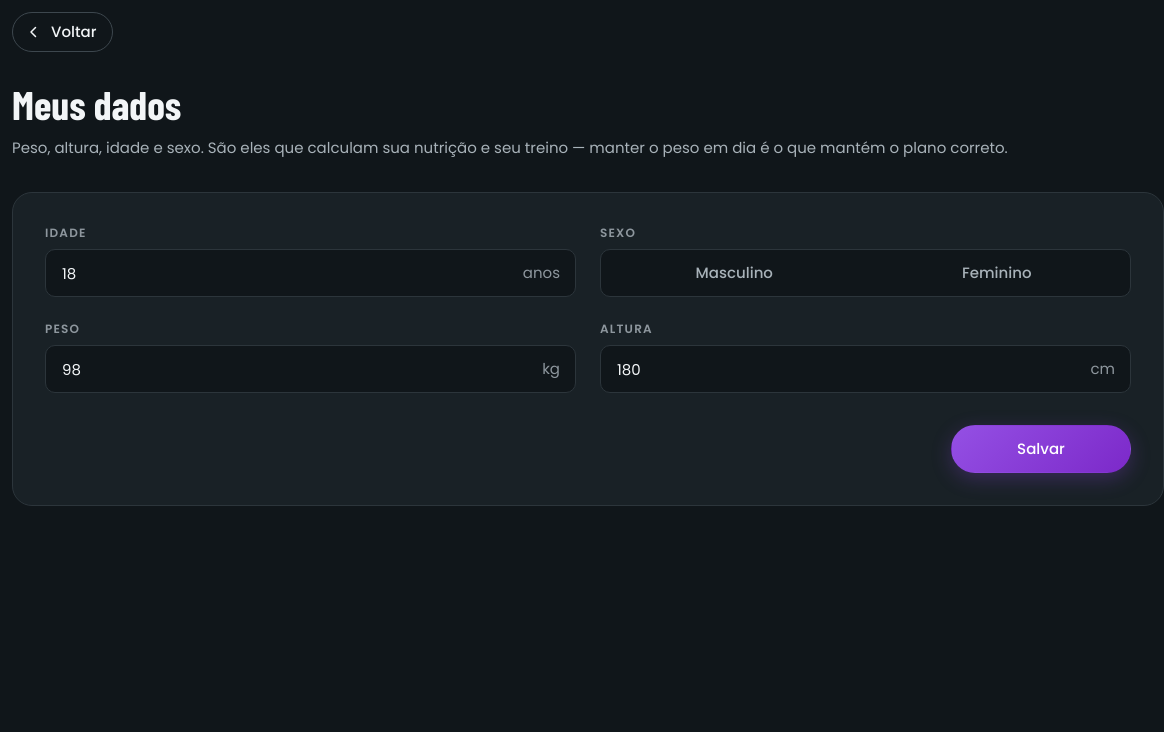
Test: Meus dados — sexo é obrigatório › salvar sem sexo é barrado, e a fórmula feminina não entra em silêncio
Expected: the number field labelled "Peso" is shown, [45,345,576,393]
Click the button "Salvar" at {"x": 1041, "y": 449}, box [951,425,1131,473]
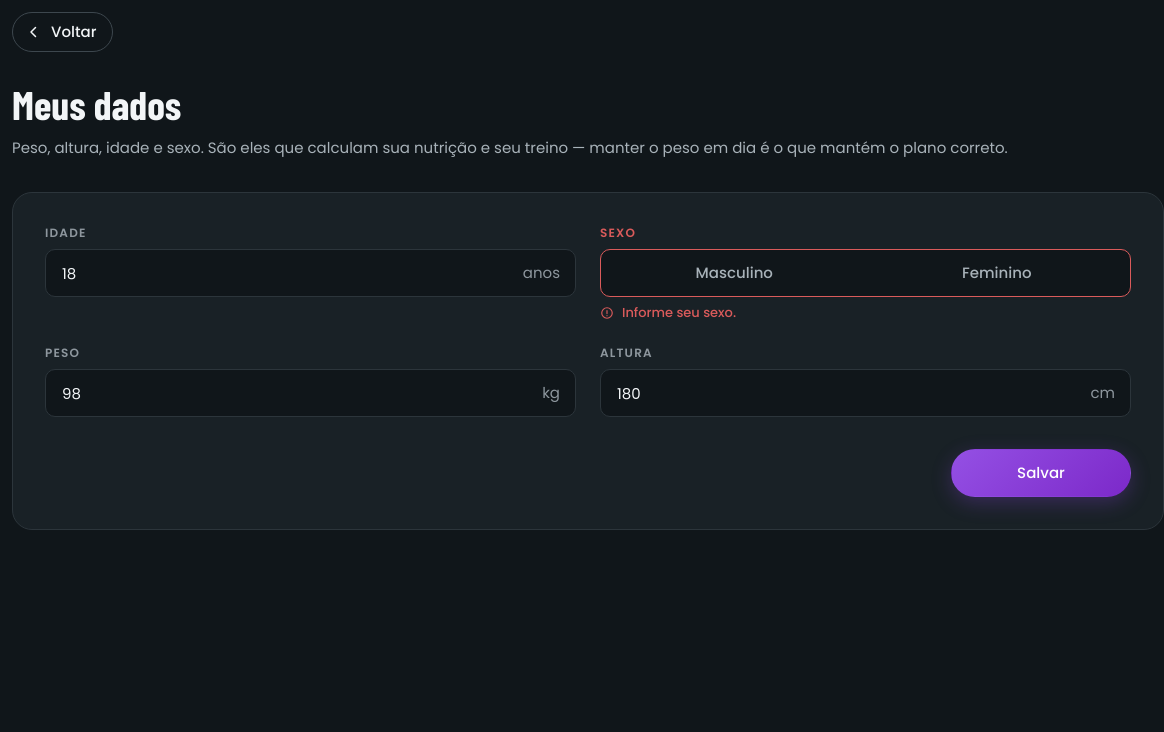
Result: the text "Informe seu sexo." is shown at [600,303,736,322]
